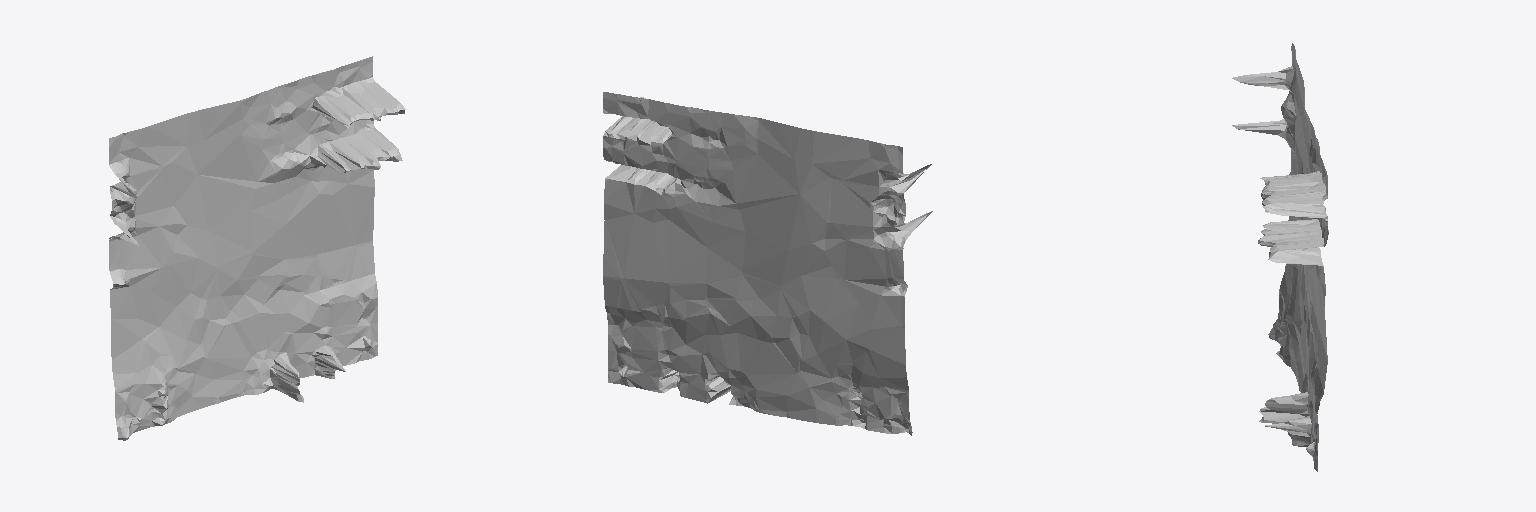
The model's file is map_10_10.obj.
3 renders of one model, left to right at view 1: azimuth 30°, elevation 25°; view 2: azimuth 150°, elevation 25°; view 3: azimuth 270°, elevation 25°, orthographic.
Bounding box in the file's own units: 10 × 10 × 2.99.